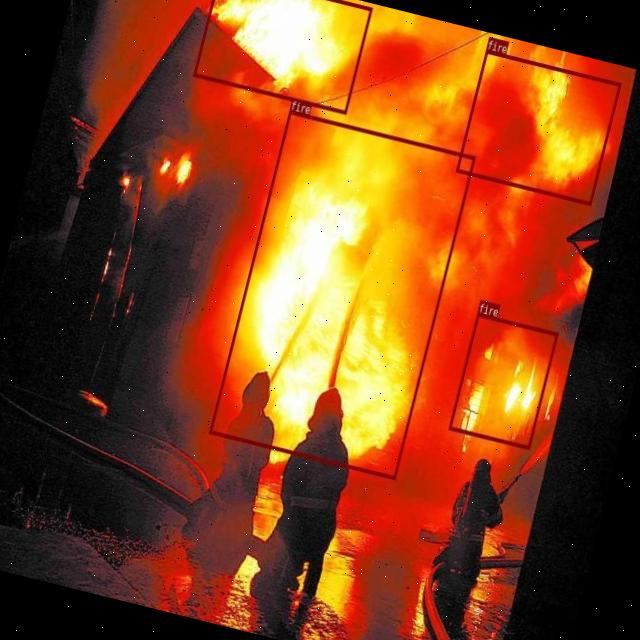fire: (208, 109, 476, 479), (455, 49, 620, 205), (192, 0, 371, 114), (448, 312, 558, 448)
